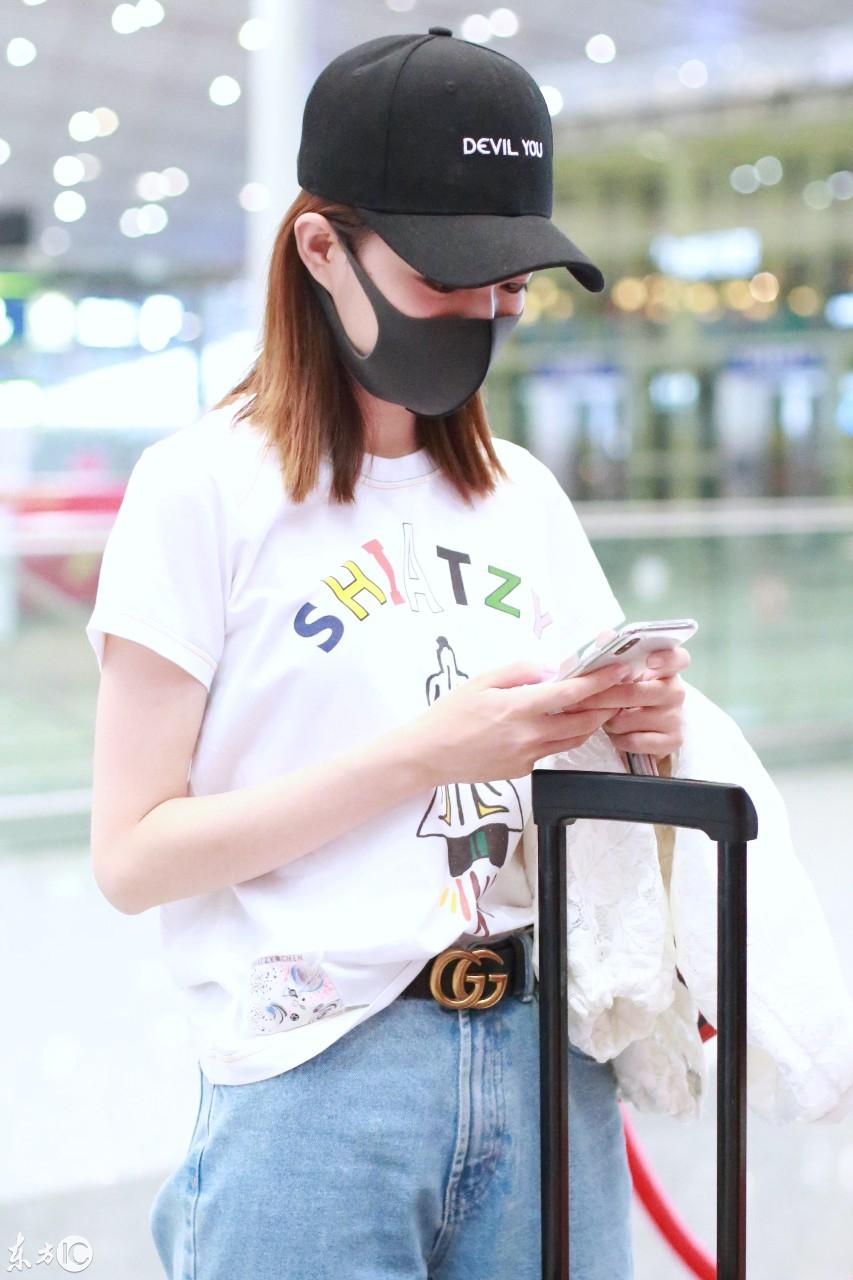mask: (341, 255, 536, 426)
